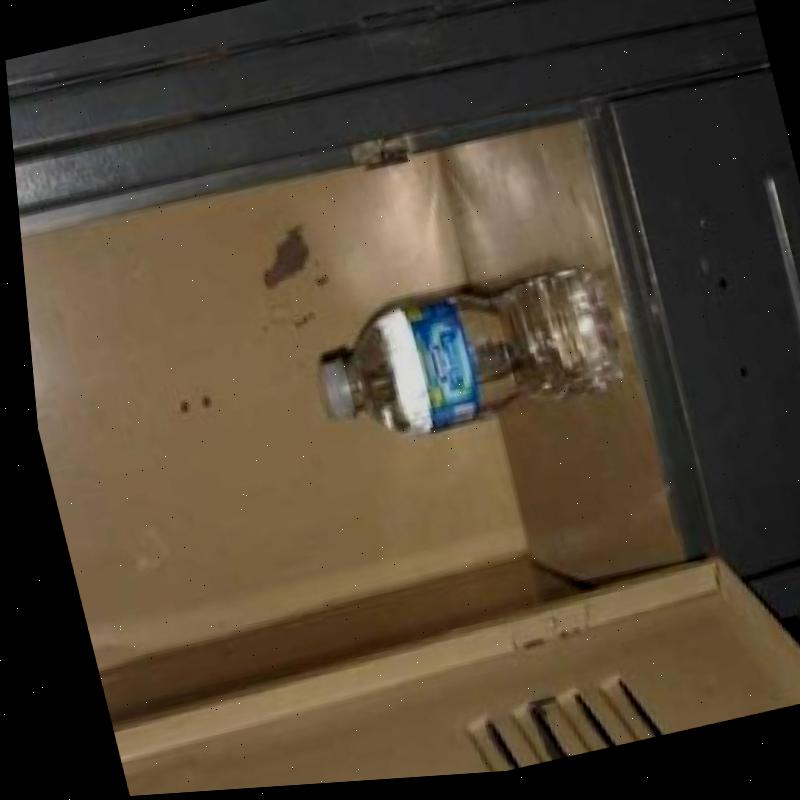botella: (295, 259, 626, 459)
